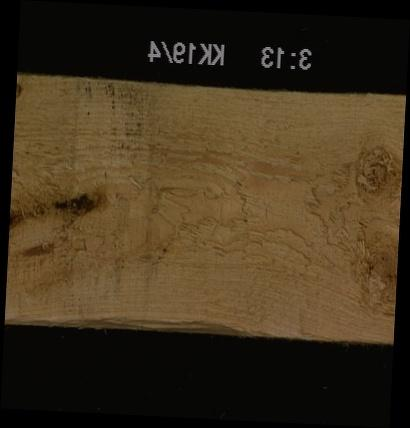dry_knot: (15, 80, 22, 99)
sound_knot: (339, 212, 396, 320), (352, 142, 401, 200)
wave: (4, 297, 274, 332)
